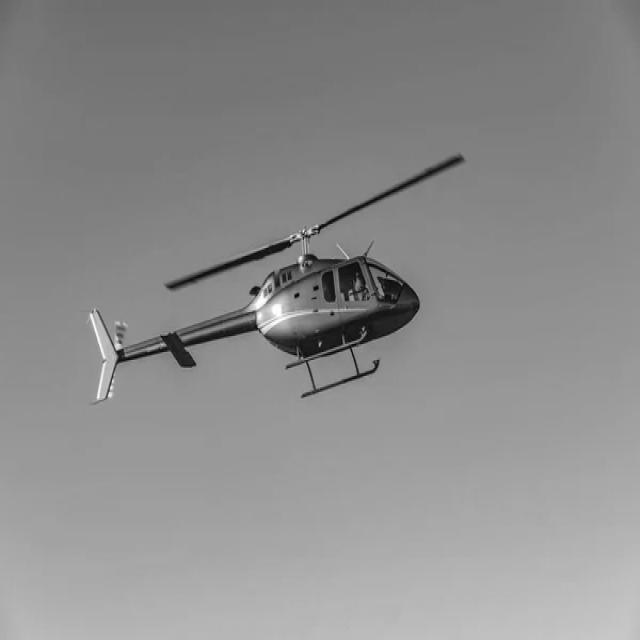Helicopter: (90, 154, 465, 404)
